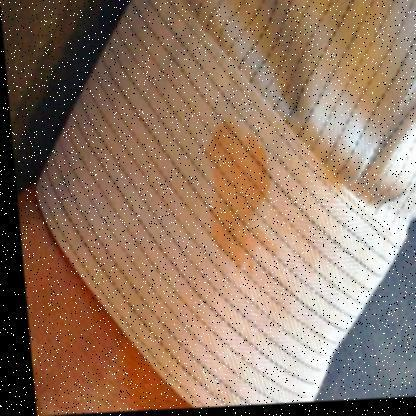kimchi: (198, 117, 292, 272)
